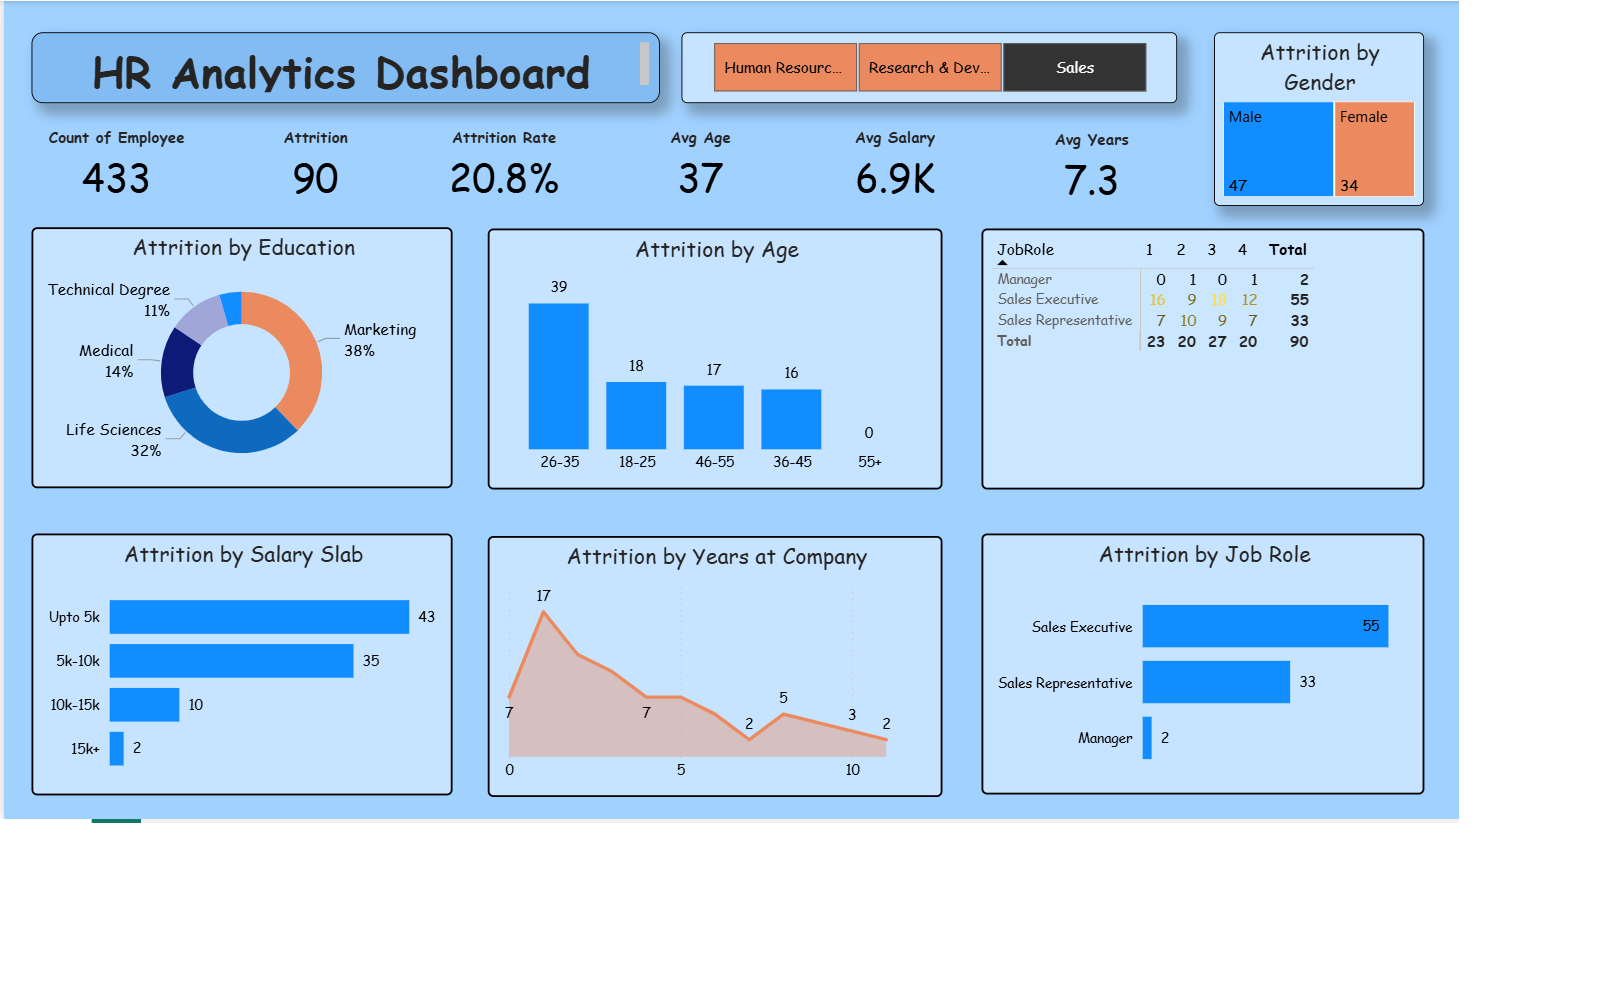

What the dashboard file says about the page in this screenshot:
{"tool":"powerbi","page":{"name":"Page 1","canvas":[1280,720],"ordinal":0},"visuals":[{"type":"card","title":"Count of Employee","fields":{"Values":["CountNonNull(HR_Analytics.EmpID)"]},"box":[24.5,105.3,150,75],"z":0},{"type":"card","title":"Attrition","fields":{"Values":["Sum(HR_Analytics.AttritionCount)"]},"box":[199.1,105.3,150,75],"z":1000},{"type":"card","title":"Avg Age","fields":{"Values":["Avg(HR_Analytics.Age)"]},"box":[538.2,105.3,150,75],"z":2000},{"type":"card","title":"Attrition Rate","fields":{"Values":["HR_Analytics.AttritionRate"]},"box":[365,105.3,150,75],"z":3000},{"type":"card","title":"Avg Salary","fields":{"Values":["Avg(HR_Analytics.MonthlyIncome)"]},"box":[708.4,105.3,151.5,75],"z":4000},{"type":"card","title":"Avg Years","fields":{"Values":["Avg(HR_Analytics.YearsAtCompany)"]},"box":[881.5,108.2,150,75],"z":5000},{"type":"donutChart","title":"Attrition by Education","fields":{"Category":["HR_Analytics.EducationField"],"Y":["Sum(HR_Analytics.AttritionCount)"]},"box":[24.5,199.1,370,229.4],"z":6000},{"type":"columnChart","title":"Attrition by Age","fields":{"Y":["Sum(HR_Analytics.AttritionCount)"],"Category":["HR_Analytics.AgeGroup"]},"box":[425.6,200.5,400,229.4],"z":7000},{"type":"pivotTable","fields":{"Rows":["HR_Analytics.JobRole"],"Columns":["HR_Analytics.JobSatisfaction"],"Values":["Sum(HR_Analytics.AttritionCount)"]},"box":[859.9,200.5,389.5,229.4],"z":8000},{"type":"barChart","title":"Attrition by Salary Slab","fields":{"Category":["HR_Analytics.SalarySlab"],"Y":["Sum(HR_Analytics.AttritionCount)"]},"box":[24.5,468.9,370,230],"z":9000},{"type":"barChart","title":"Attrition by Job Role","fields":{"Y":["Sum(HR_Analytics.AttritionCount)"],"Category":["HR_Analytics.JobRole"]},"box":[859.9,468.9,389.5,229.4],"z":10000},{"type":"areaChart","title":"Attrition by Years at Company","fields":{"Category":["HR_Analytics.YearsAtCompany"],"Y":["Sum(HR_Analytics.AttritionCount)"]},"box":[425.6,470.3,400,229.4],"z":11000},{"type":"treemap","title":"Attrition by Gender","fields":{"Group":["HR_Analytics.Gender"],"Values":["Sum(HR_Analytics.AttritionCount)"]},"box":[1064.8,27.4,184.7,152.9],"z":12000},{"type":"slicer","fields":{"Values":["HR_Analytics.Department"]},"box":[595.9,27.4,435.7,62],"z":13000},{"type":"textbox","box":[24.5,27.4,552.6,62],"z":14000}]}

Visuals, with their boxes on the page's 1280x720 design canvas (x1, y1, x2, y2). These are canvas units, not pixel positions in the 1600x996 screenshot, which may show the page scaled, cropped or inside an application window:
"Count of Employee" card: <bbox>24, 105, 174, 180</bbox>
"Attrition" card: <bbox>199, 105, 349, 180</bbox>
"Avg Age" card: <bbox>538, 105, 688, 180</bbox>
"Attrition Rate" card: <bbox>365, 105, 515, 180</bbox>
"Avg Salary" card: <bbox>708, 105, 860, 180</bbox>
"Avg Years" card: <bbox>882, 108, 1032, 183</bbox>
"Attrition by Education" donutChart: <bbox>24, 199, 394, 428</bbox>
"Attrition by Age" columnChart: <bbox>426, 200, 826, 430</bbox>
pivotTable - HR_Analytics.JobRole x HR_Analytics.JobSatisfaction: <bbox>860, 200, 1249, 430</bbox>
"Attrition by Salary Slab" barChart: <bbox>24, 469, 394, 699</bbox>
"Attrition by Job Role" barChart: <bbox>860, 469, 1249, 698</bbox>
"Attrition by Years at Company" areaChart: <bbox>426, 470, 826, 700</bbox>
"Attrition by Gender" treemap: <bbox>1065, 27, 1250, 180</bbox>
slicer - HR_Analytics.Department: <bbox>596, 27, 1032, 89</bbox>
textbox: <bbox>24, 27, 577, 89</bbox>
